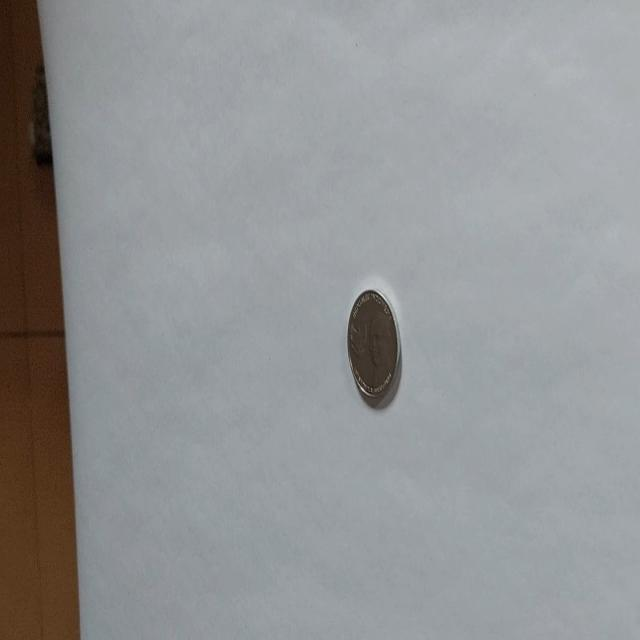lima ratus rupiah: (346, 287, 402, 409)
